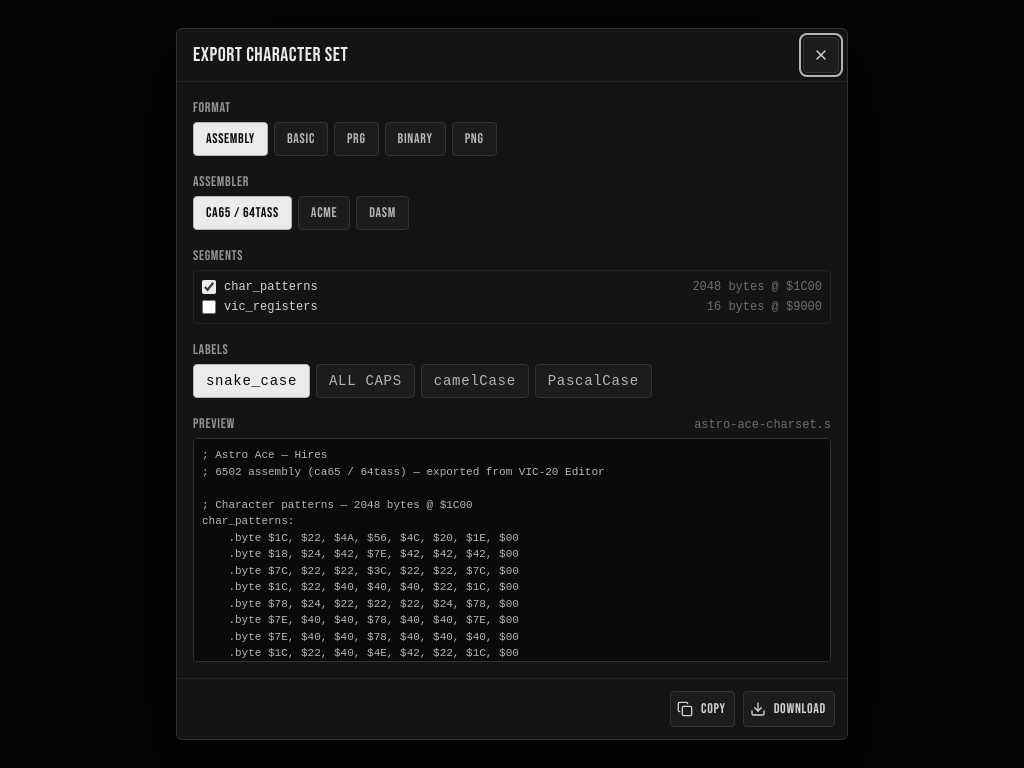
Test case: ExportDialog › reports the binary byte count for the charset
The image size is (1024, 768).
Click the button "Binary": (415, 139) [385,122,446,156]
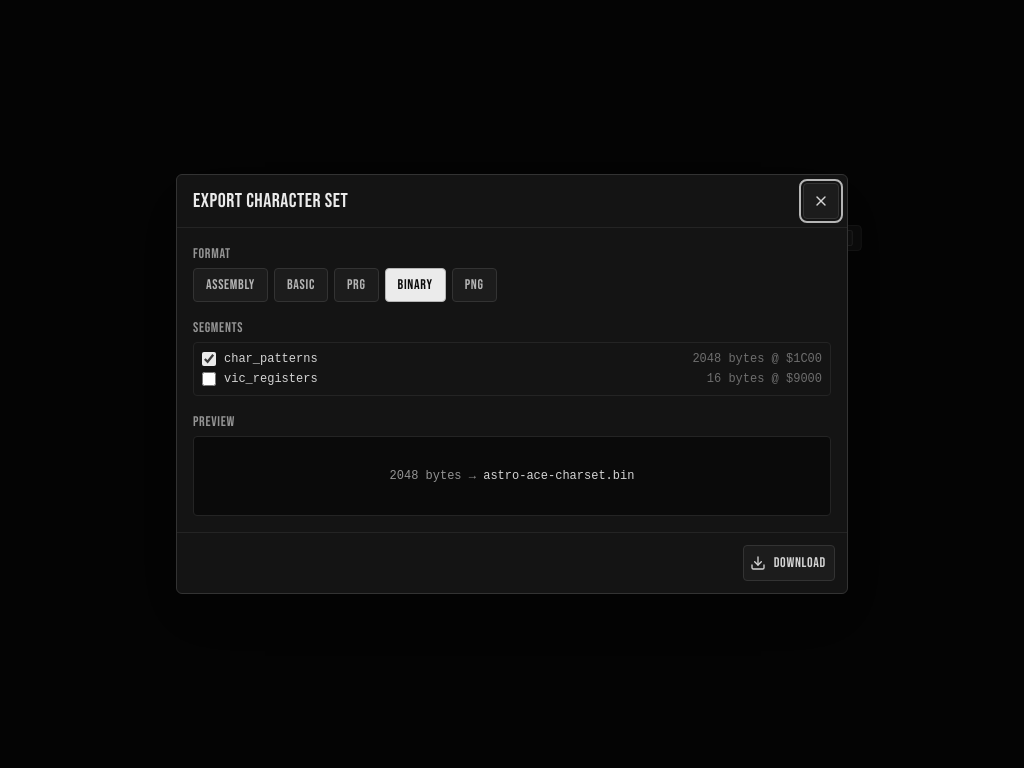
Check: the text "astro-ace-charset.bin" is shown, box [483,469,634,483]
